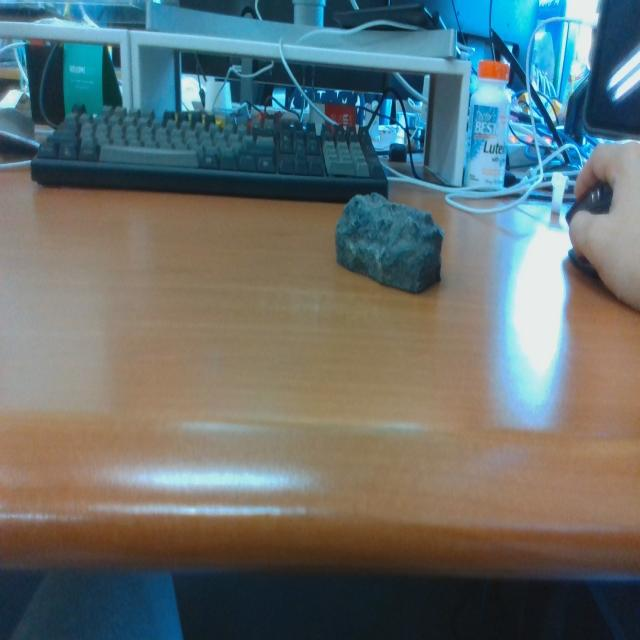stone: (334, 191, 445, 296)
